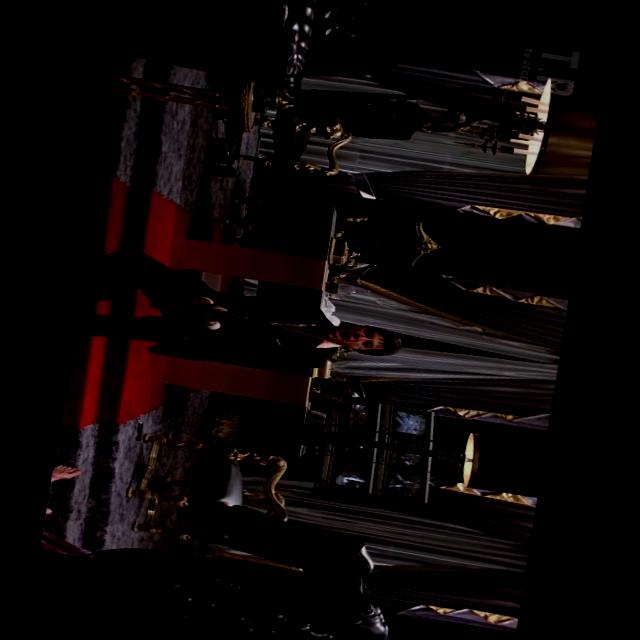long weapon: (130, 269, 290, 356)
